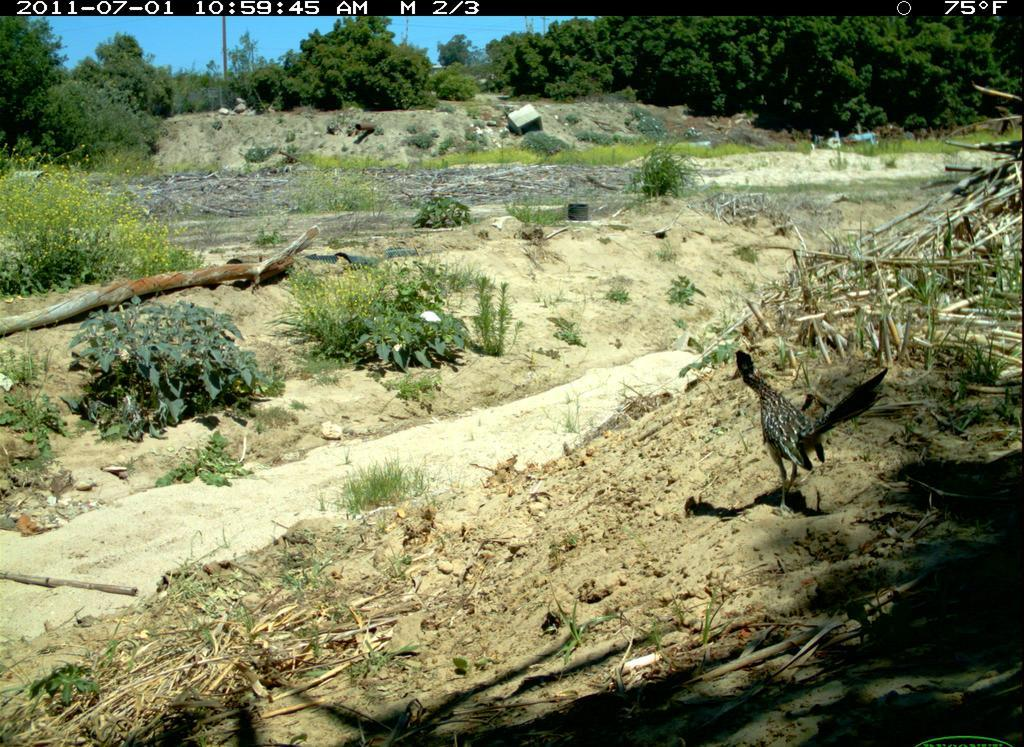bird: (716, 336, 902, 529)
